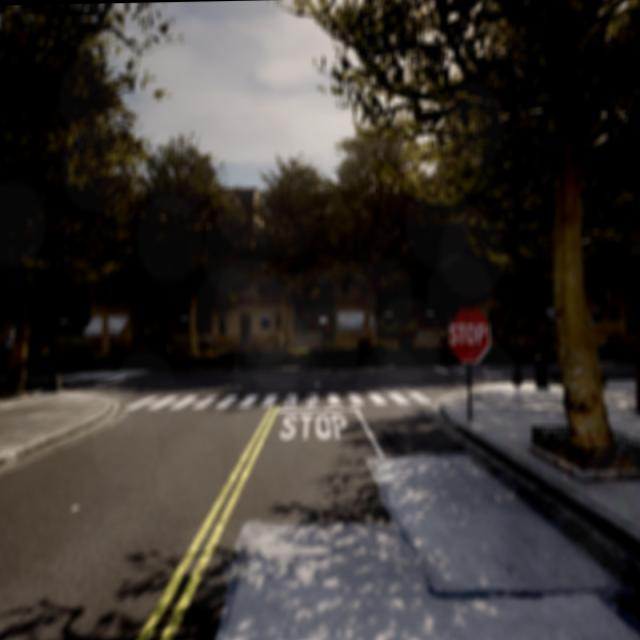stop sign: (444, 303, 494, 367), (448, 319, 487, 348)
